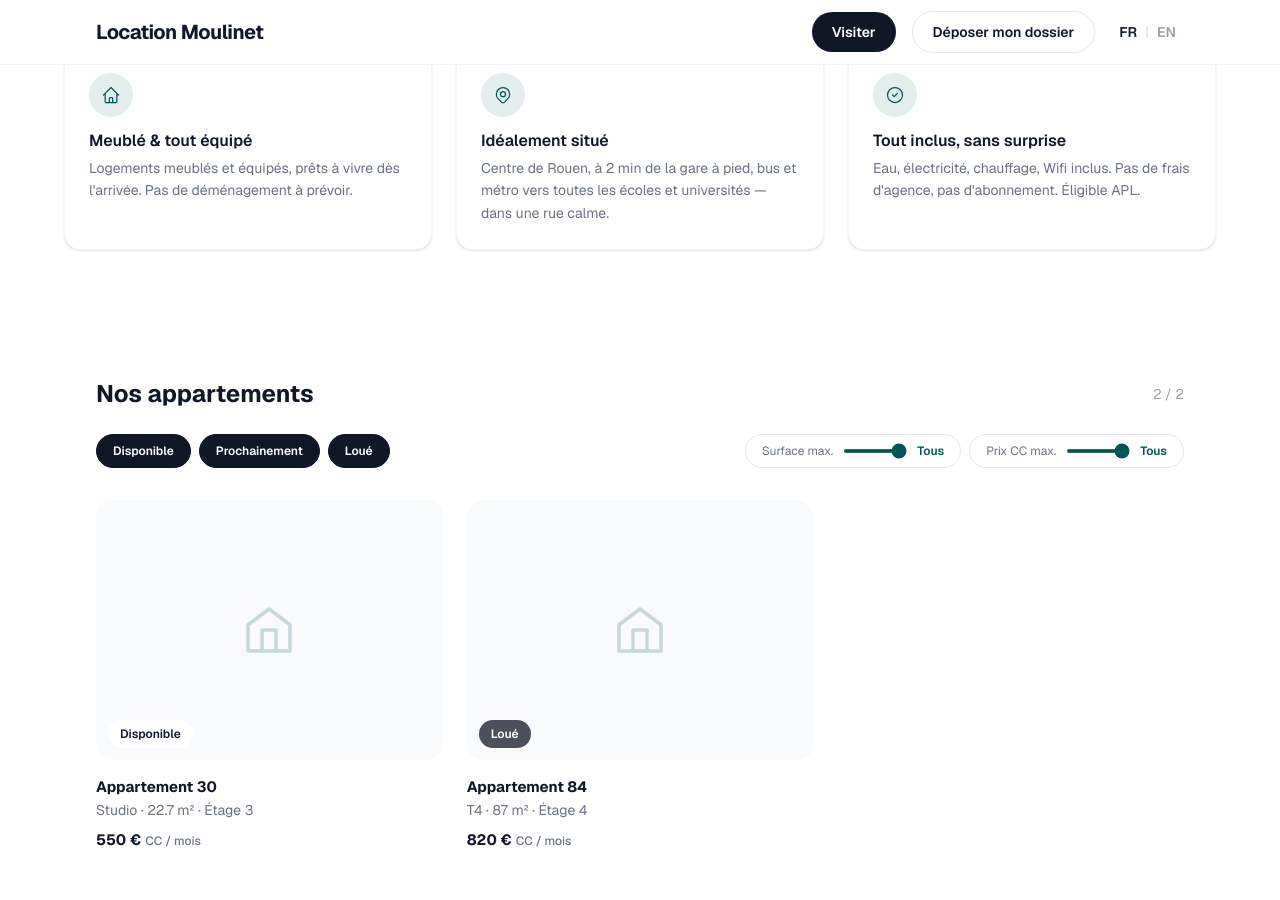
Test: HomeClient — filtres › masque les appartements loués quand on désactive le statut "Loué"
The image size is (1280, 900).
(page scrolled)
Click the button "Loué": (359, 451) [328,434,390,468]
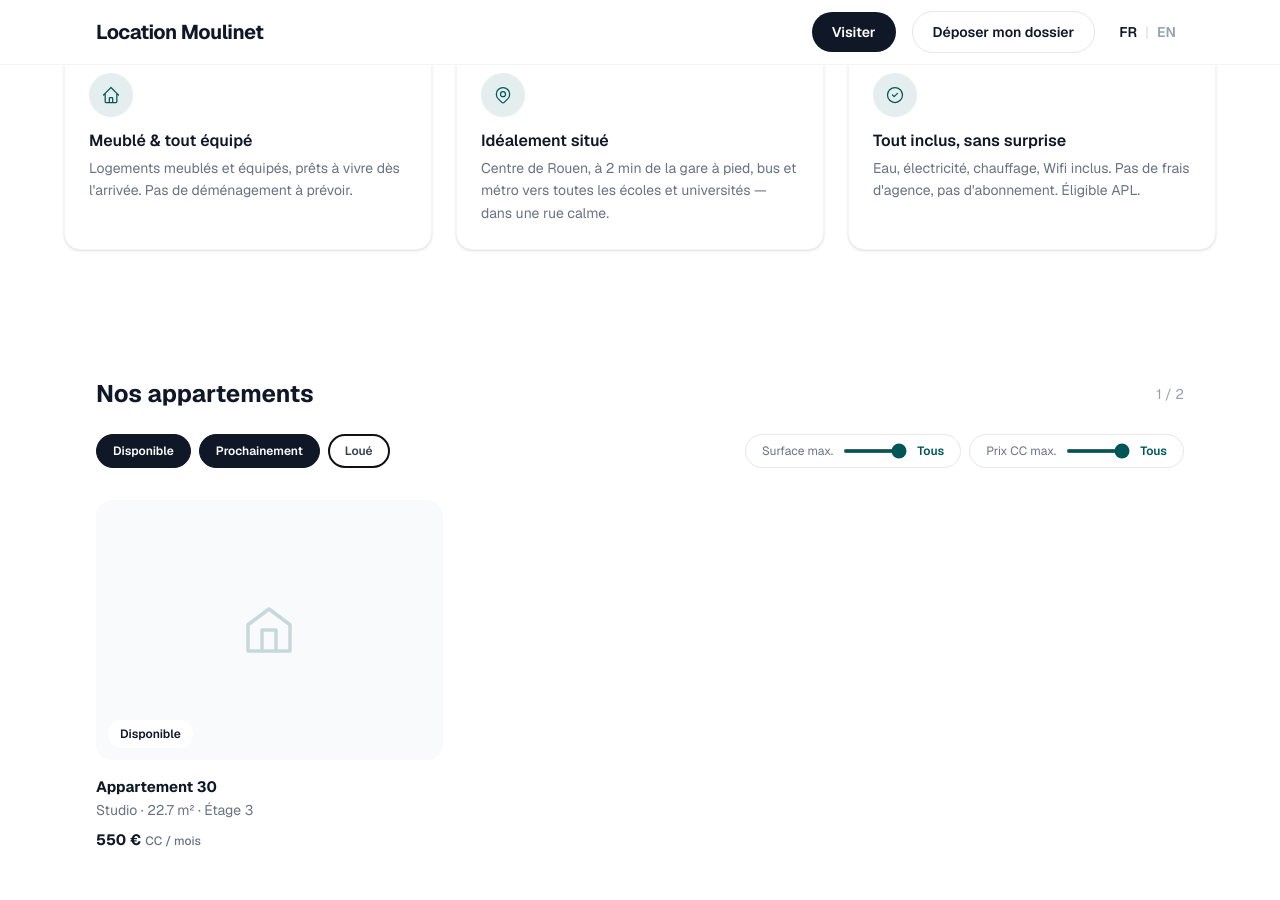
expect the text "Appartement 30" is shown: met, box [96,777,217,796]
expect the link "Appartement 84" is gone: met
expect the text "1 / 2" is shown: met, box [1156,384,1184,404]
